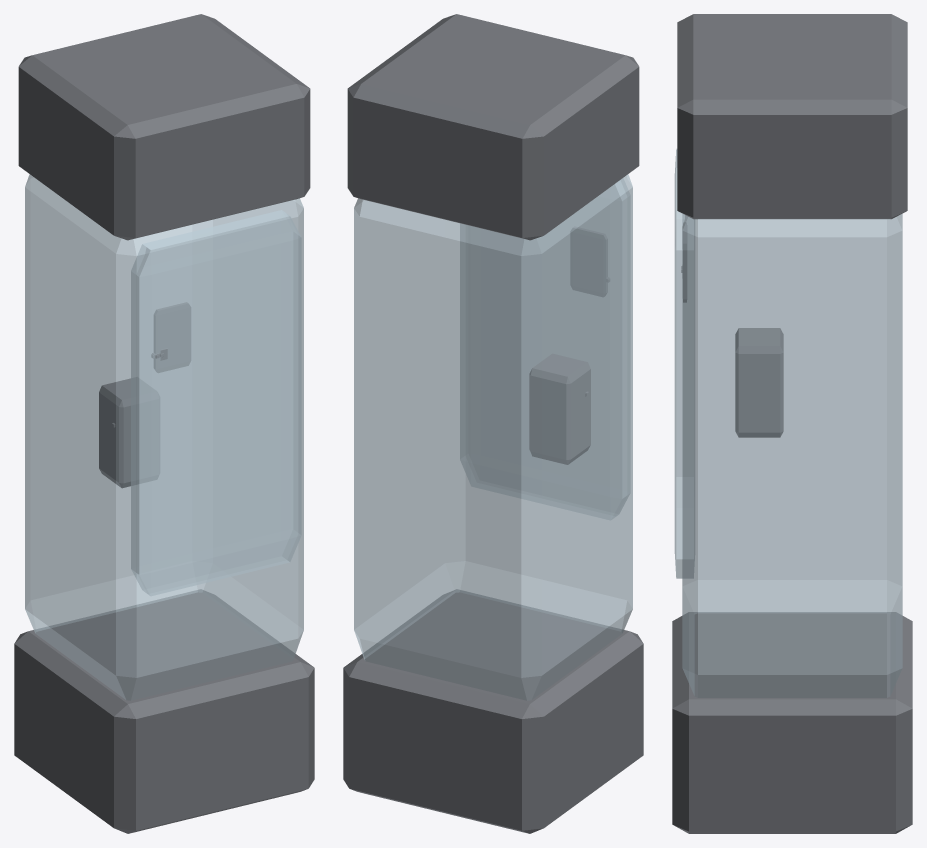
Rendered from b10_rotating_sunglasses_display.glb.
3 views of the same model, side by side, from view 1: azimuth 30°, elevation 25°; view 2: azimuth 150°, elevation 25°; view 3: azimuth 270°, elevation 25° (orthographic). The views are drawn at different scales.
Visible parts, largest first — view 1: b10_rotating_sunglasses_display; view 2: b10_rotating_sunglasses_display; view 3: b10_rotating_sunglasses_display.
Part boxes in pixels (left/top/right/bottom): b10_rotating_sunglasses_display: left=14, top=14, right=314, bottom=833; b10_rotating_sunglasses_display: left=343, top=14, right=643, bottom=833; b10_rotating_sunglasses_display: left=672, top=14, right=912, bottom=833.
Size of the model in its own units: 0.52 by 1.75 by 0.52.
